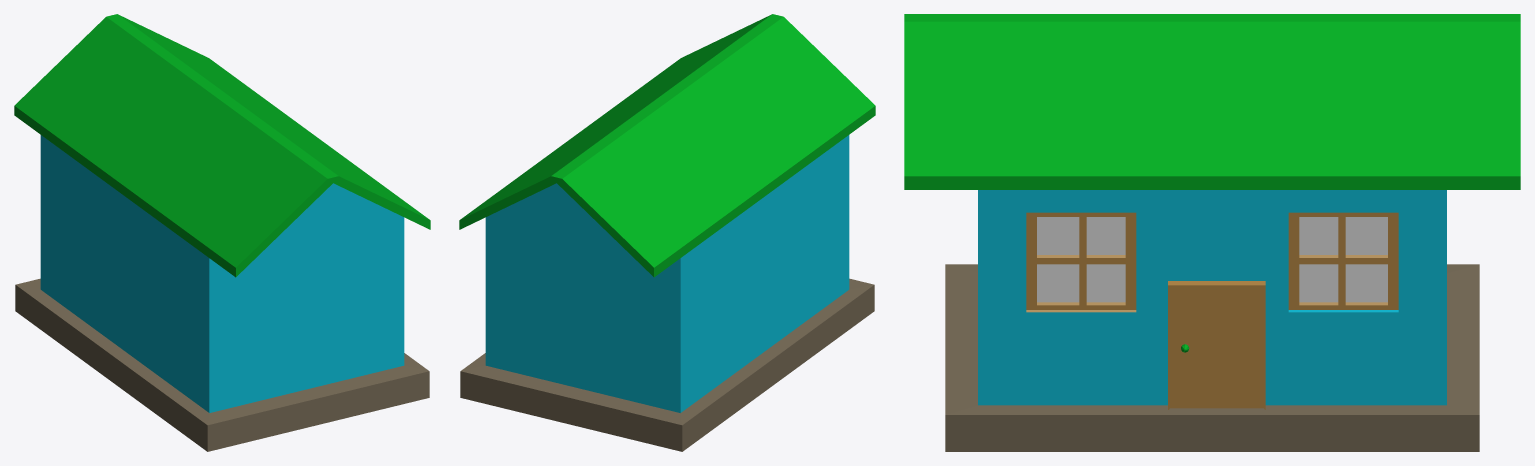
File: house3.fbx
The picture shows the model from 3 angles, left to right: view 1: azimuth 30°, elevation 25°; view 2: azimuth 150°, elevation 25°; view 3: azimuth 270°, elevation 25°; orthographic projection. The views are drawn at different scales.
Visible parts, largest first — view 1: Cube; view 2: Cube; view 3: Cube.
Boxes of the visible parts, <box> form: Cube: <box>14,14,430,451</box>; Cube: <box>459,14,875,451</box>; Cube: <box>904,14,1520,451</box>.
Size of the model in its own units: 456 by 507 by 788.
